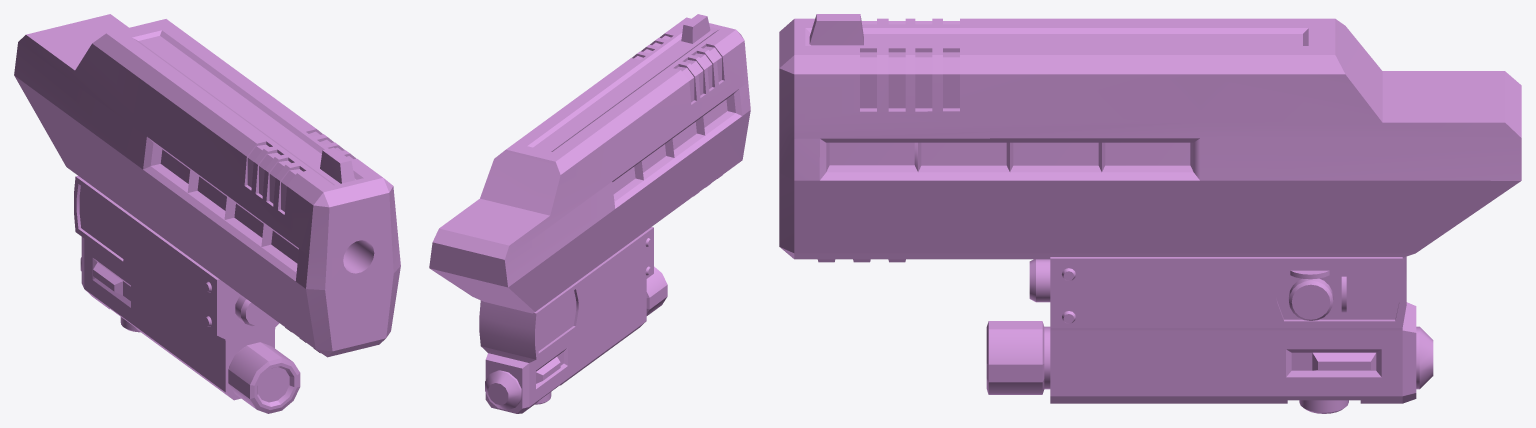
File: M6C Silencer.fbx
3 renders of one model, left to right at view 1: azimuth 30°, elevation 25°; view 2: azimuth 150°, elevation 25°; view 3: azimuth 270°, elevation 25°, orthographic. The views are drawn at different scales.
Parts seen in each view (by area): view 1: v_m6cs_onimag_compensator; view 2: v_m6cs_onimag_compensator; view 3: v_m6cs_onimag_compensator.
Boxes of the visible parts, bbox=[...] form: v_m6cs_onimag_compensator: bbox=[14, 14, 400, 413]; v_m6cs_onimag_compensator: bbox=[429, 14, 750, 413]; v_m6cs_onimag_compensator: bbox=[779, 14, 1521, 413].
Bounding box in the file's own units: 131 × 412 × 714.
